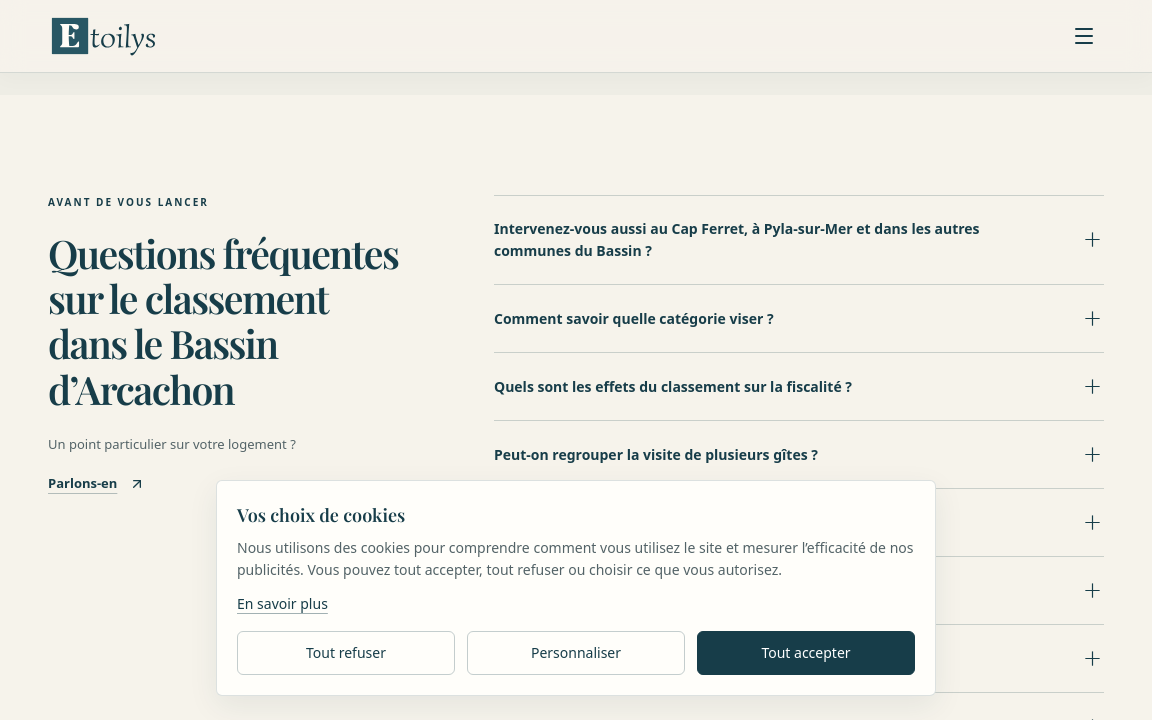
Test: ClassementBassinArcachon › renders the Bassin d’Arcachon destination with V6 surfaces and local content
The image size is (1152, 720).
Later steps or results of the test are not shown.
(page scrolled)
Click the button named "Intervenez-vous aussi au Cap Ferret, à Pyla-sur-Mer et dans les autres communes du Bassin ?" at (799, 240), box [494,196,1104,284]
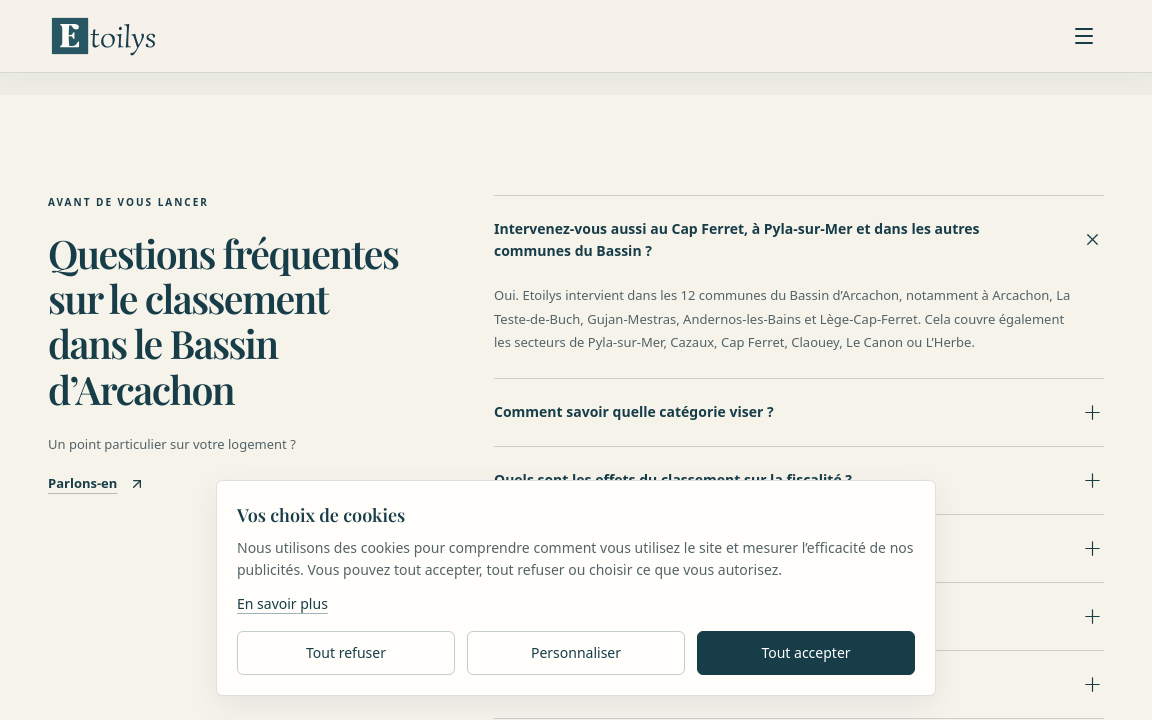
expect the text "Cazaux" is shown: met, box [494,286,1070,351]
expect the text "Claouey" is shown: met, box [494,286,1070,351]
